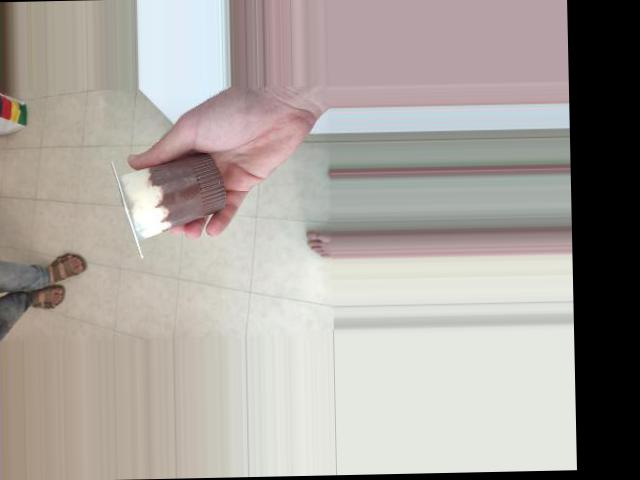milky: (108, 168, 225, 238)
